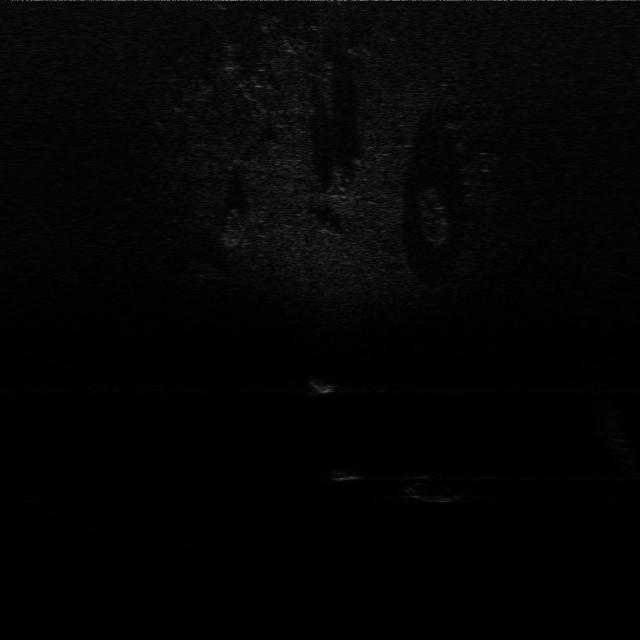cube: (321, 462, 372, 484)
square cage: (303, 376, 348, 396)
tyre: (406, 472, 466, 504)
